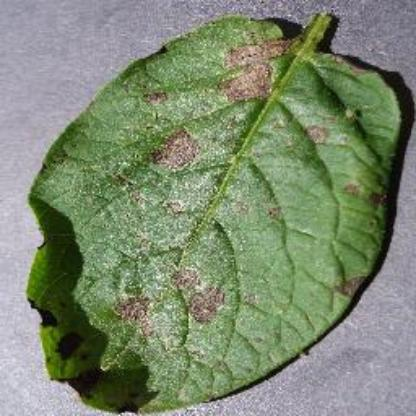Early-Blight: (26, 14, 402, 414)
